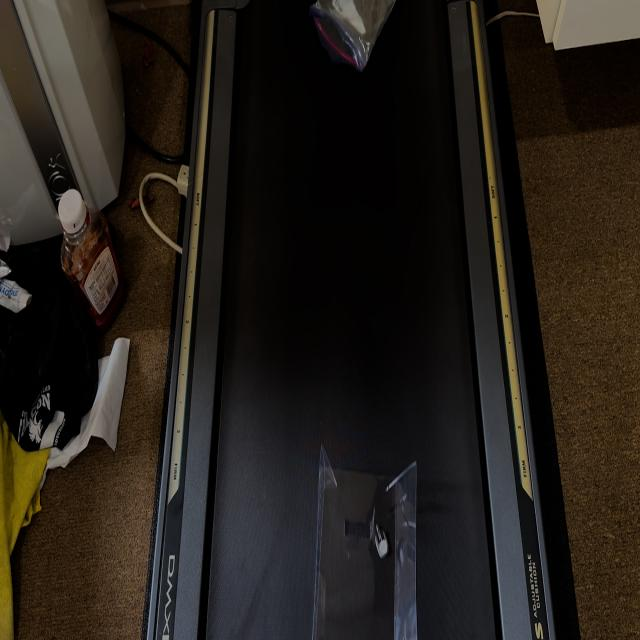Trash: (307, 444, 425, 640), (310, 0, 398, 76)
